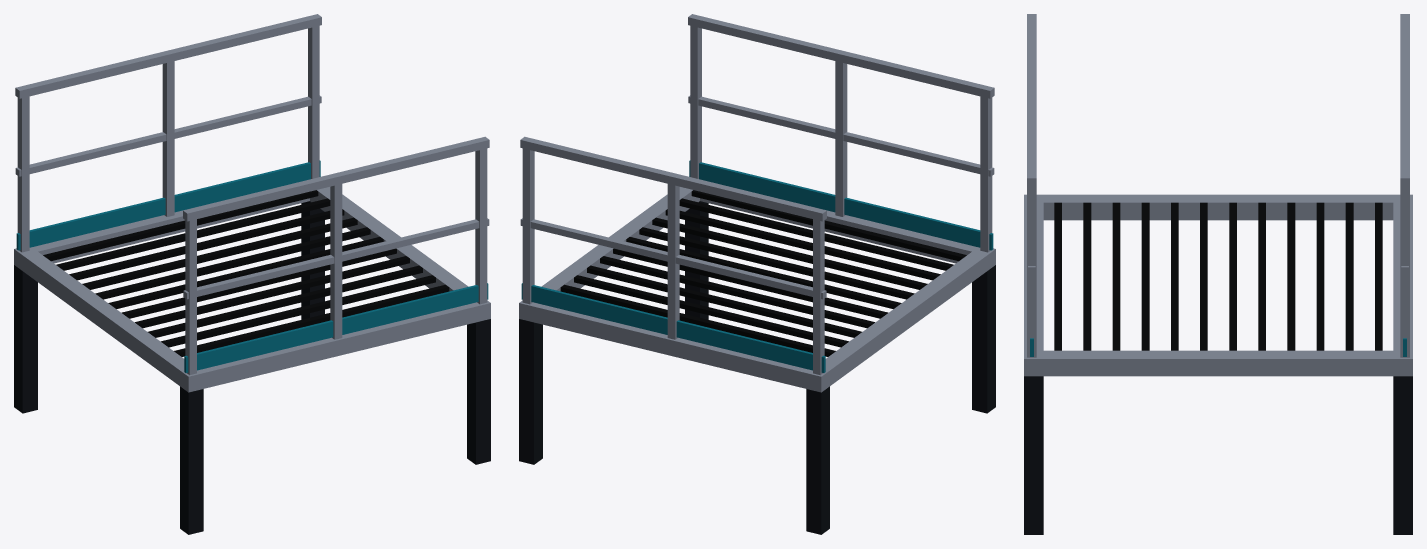
Rendered from SM_Catwalk_2x2.glb.
3 renders of one model, left to right at view 1: azimuth 30°, elevation 25°; view 2: azimuth 150°, elevation 25°; view 3: azimuth 270°, elevation 25°, orthographic. The views are drawn at different scales.
Visible parts, largest first — view 1: SM_Catwalk_2x2-col; view 2: SM_Catwalk_2x2-col; view 3: SM_Catwalk_2x2-col.
Part boxes in pixels (bbox=[...]): SM_Catwalk_2x2-col: bbox=[14, 14, 490, 534]; SM_Catwalk_2x2-col: bbox=[519, 14, 995, 534]; SM_Catwalk_2x2-col: bbox=[1024, 14, 1412, 534].
Size of the model in its own units: 2 by 2.03 by 2.
